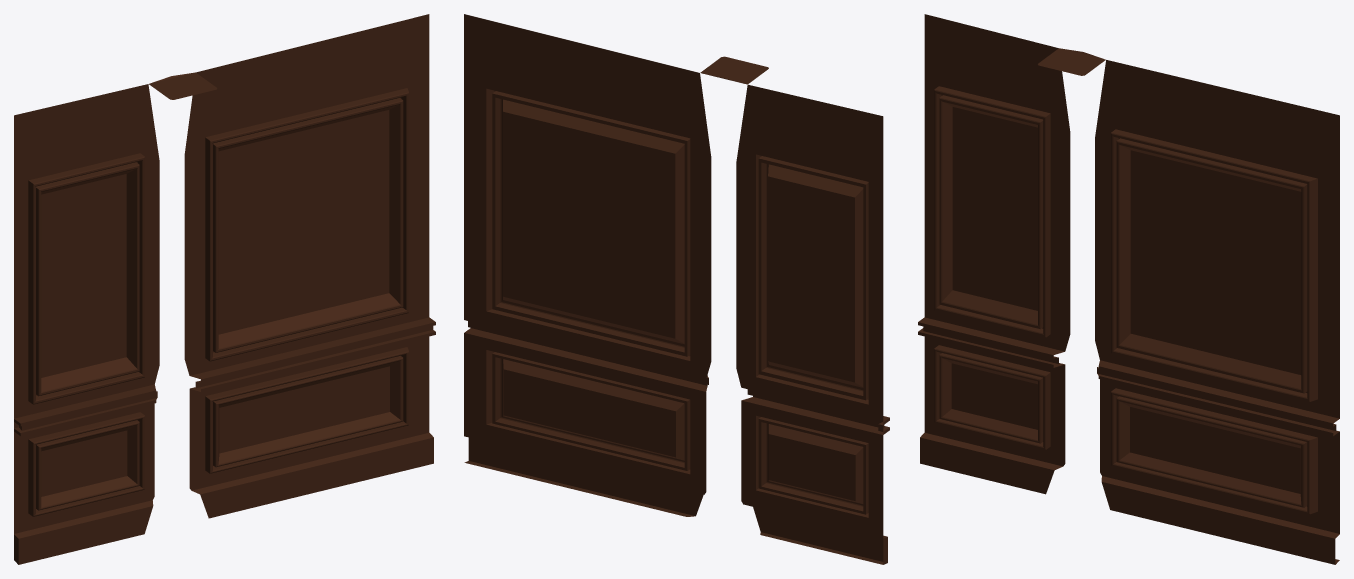
File: wall3.fbx
The picture shows the model from 3 angles, left to right: view 1: azimuth 30°, elevation 25°; view 2: azimuth 150°, elevation 25°; view 3: azimuth 330°, elevation 25°; orthographic projection.
Visible parts, largest first — view 1: FLOOR1plane.002; view 2: FLOOR1plane.002; view 3: FLOOR1plane.002.
Boxes of the visible parts, left/top/right/bottom form: FLOOR1plane.002: left=14, top=14, right=435, bottom=564; FLOOR1plane.002: left=464, top=14, right=889, bottom=564; FLOOR1plane.002: left=918, top=14, right=1339, bottom=564.
Size of the model in its own units: 4132 by 4241 by 408.
